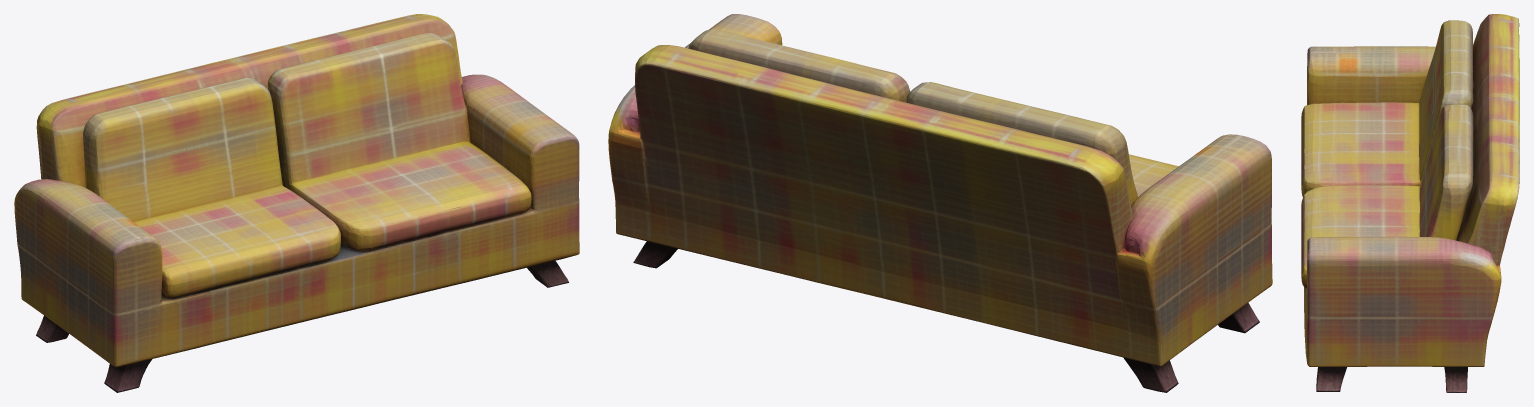
Rendered from sofa_0.glb.
The picture shows the model from 3 angles, left to right: view 1: azimuth 30°, elevation 25°; view 2: azimuth 150°, elevation 25°; view 3: azimuth 270°, elevation 25°; orthographic projection. The views are drawn at different scales.
Visible parts, largest first — view 1: world; view 2: world; view 3: world.
Boxes of the visible parts, x1=… form: world: x1=14, y1=14, x2=579, y2=392; world: x1=608, y1=14, x2=1272, y2=392; world: x1=1301, y1=14, x2=1519, y2=392.
Bounding box in the file's own units: 1 × 0.4263 × 0.4361.
Materials: 1 (1 with a texture image).
